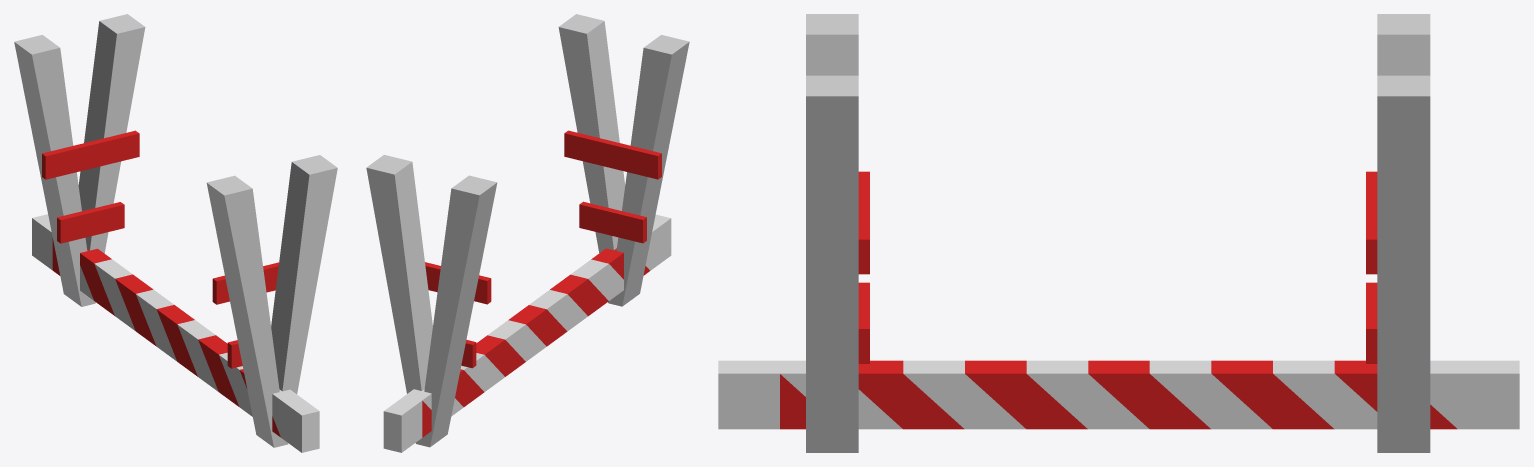
The model's file is Barricade.fbx.
3 views of the same model, side by side, from view 1: azimuth 30°, elevation 25°; view 2: azimuth 150°, elevation 25°; view 3: azimuth 270°, elevation 25° (orthographic). The views are drawn at different scales.
Parts seen in each view (by area): view 1: Cube.001, Cube.002, Cube, Cube.007, Cube.004, Cube.003, Cube.006, Cube.005; view 2: Cube.002, Cube.001, Cube, Cube.007, Cube.006, Cube.005, Cube.004, Cube.003; view 3: Cube, Cube.002, Cube.001, Cube.007, Cube.004, Cube.006, Cube.003, Cube.005.
Boxes of the visible parts, box(x1,y1,x2,y2) form: Cube.001: box(206, 155, 337, 447); Cube.002: box(14, 14, 145, 306); Cube: box(32, 214, 319, 452); Cube.007: box(52, 238, 280, 437); Cube.004: box(42, 130, 139, 179); Cube.003: box(57, 202, 124, 243); Cube.006: box(212, 262, 278, 304); Cube.005: box(227, 340, 242, 368); Cube.002: box(366, 155, 497, 447); Cube.001: box(558, 14, 689, 306); Cube: box(383, 214, 671, 452); Cube.007: box(422, 248, 649, 437); Cube.006: box(564, 130, 661, 179); Cube.005: box(579, 201, 646, 243); Cube.004: box(425, 262, 491, 304); Cube.003: box(461, 339, 476, 368); Cube: box(718, 360, 1519, 429); Cube.002: box(1377, 14, 1430, 452); Cube.001: box(806, 14, 858, 452); Cube.007: box(780, 360, 1457, 429); Cube.004: box(1366, 171, 1377, 274); Cube.006: box(858, 171, 869, 274); Cube.003: box(1366, 282, 1377, 363); Cube.005: box(858, 282, 869, 363).
Size of the model in its own units: 25.35 by 56.44 by 104.
